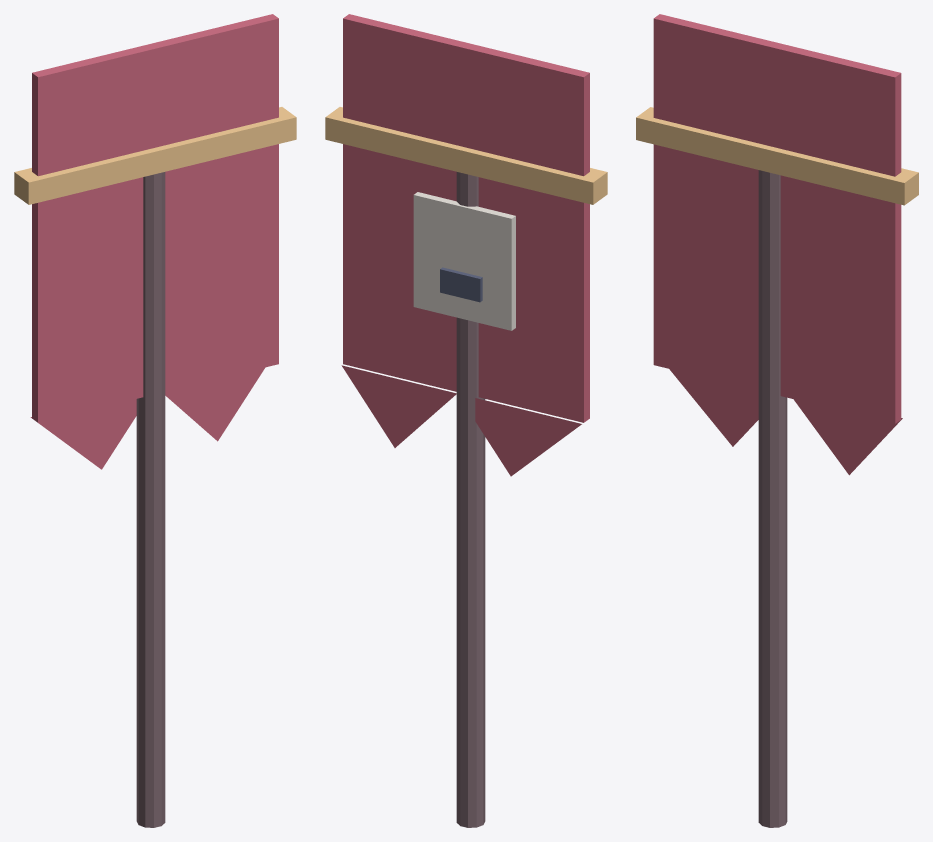
The model's file is v07_dojo_ritual_banner_lod0.glb.
The picture shows the model from 3 angles, left to right: view 1: azimuth 30°, elevation 25°; view 2: azimuth 150°, elevation 25°; view 3: azimuth 330°, elevation 25°; orthographic projection.
Visible parts, largest first — view 1: dojo_ritual_banner; view 2: dojo_ritual_banner; view 3: dojo_ritual_banner.
Boxes of the visible parts, <box> form: dojo_ritual_banner: <box>14,14,296,827</box>; dojo_ritual_banner: <box>325,14,607,827</box>; dojo_ritual_banner: <box>636,14,918,827</box>.
Bounding box in the file's own units: 3 × 8.3 × 0.35.
